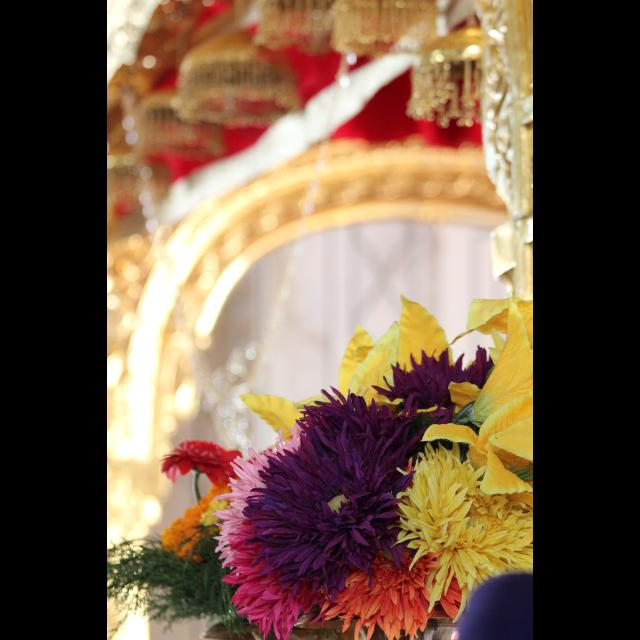Flower: (159, 289, 533, 639)
